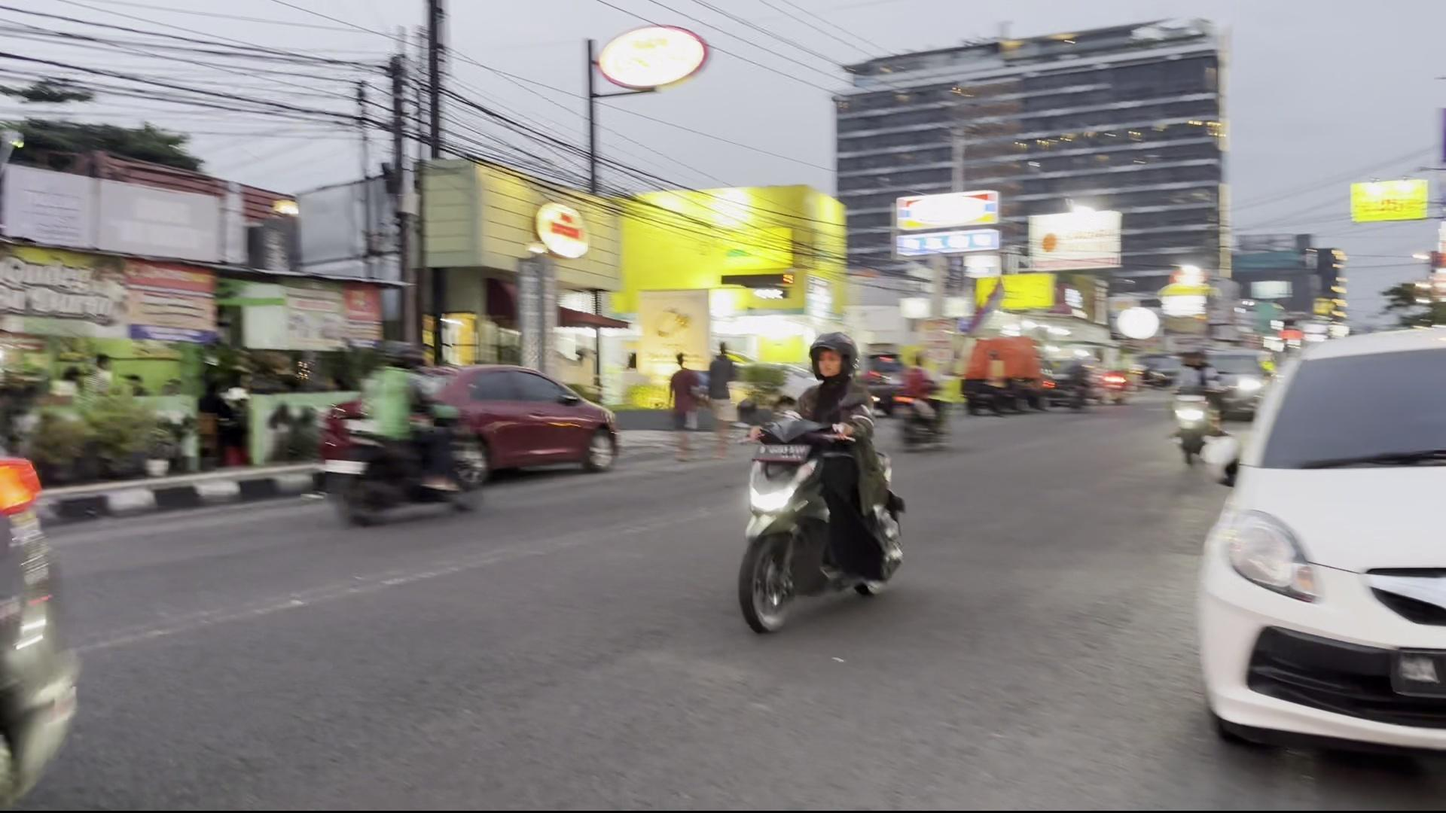helm: (804, 327, 861, 388)
riding: (727, 324, 918, 641)
